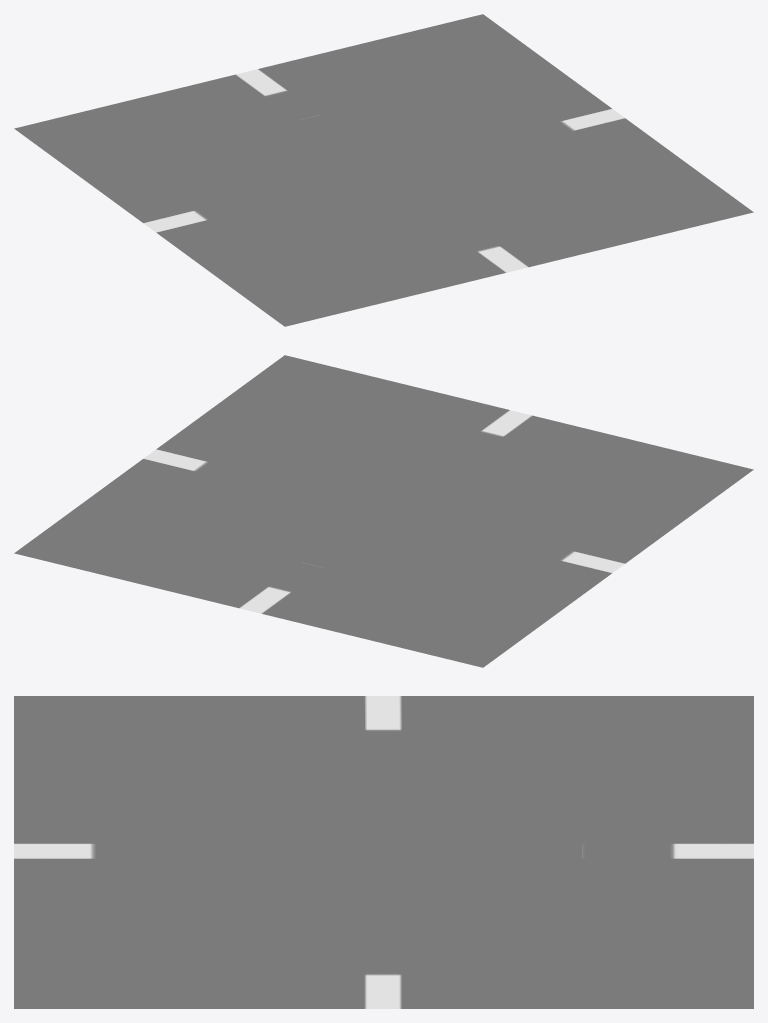
Rendered from StreetCrossing1.glb.
The picture shows the model from 3 angles, top to bottom: view 1: azimuth 30°, elevation 25°; view 2: azimuth 150°, elevation 25°; view 3: azimuth 270°, elevation 25°; orthographic projection. The views are drawn at different scales.
Parts seen in each view (by area): view 1: StreetLines.001; view 2: StreetLines.001; view 3: StreetLines.001.
Part boxes in pixels (x1,y1,x2,y2): StreetLines.001: [14, 14, 753, 326]; StreetLines.001: [14, 355, 753, 667]; StreetLines.001: [14, 696, 753, 1008].
Bounding box in the file's own units: 2 × 0 × 2.
Materials: 1 (1 with a texture image).
